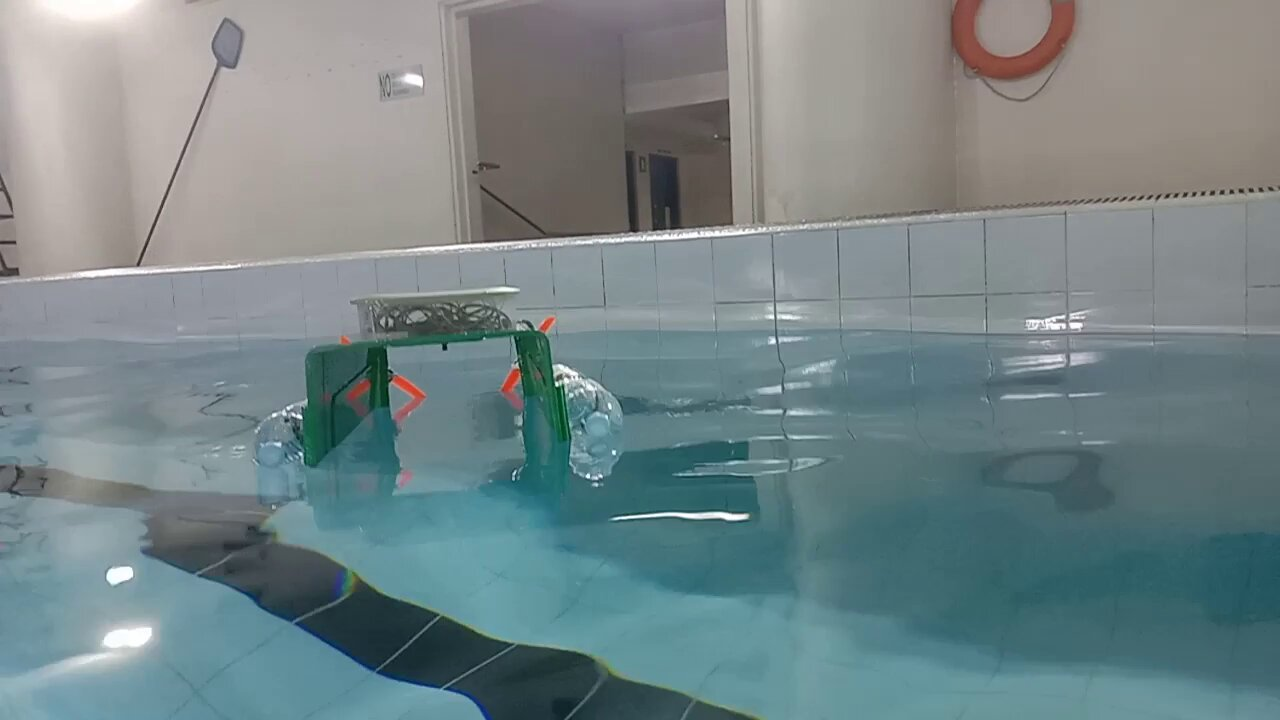drone: (251, 283, 625, 479)
